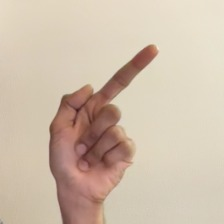G: (38, 32, 172, 201)
